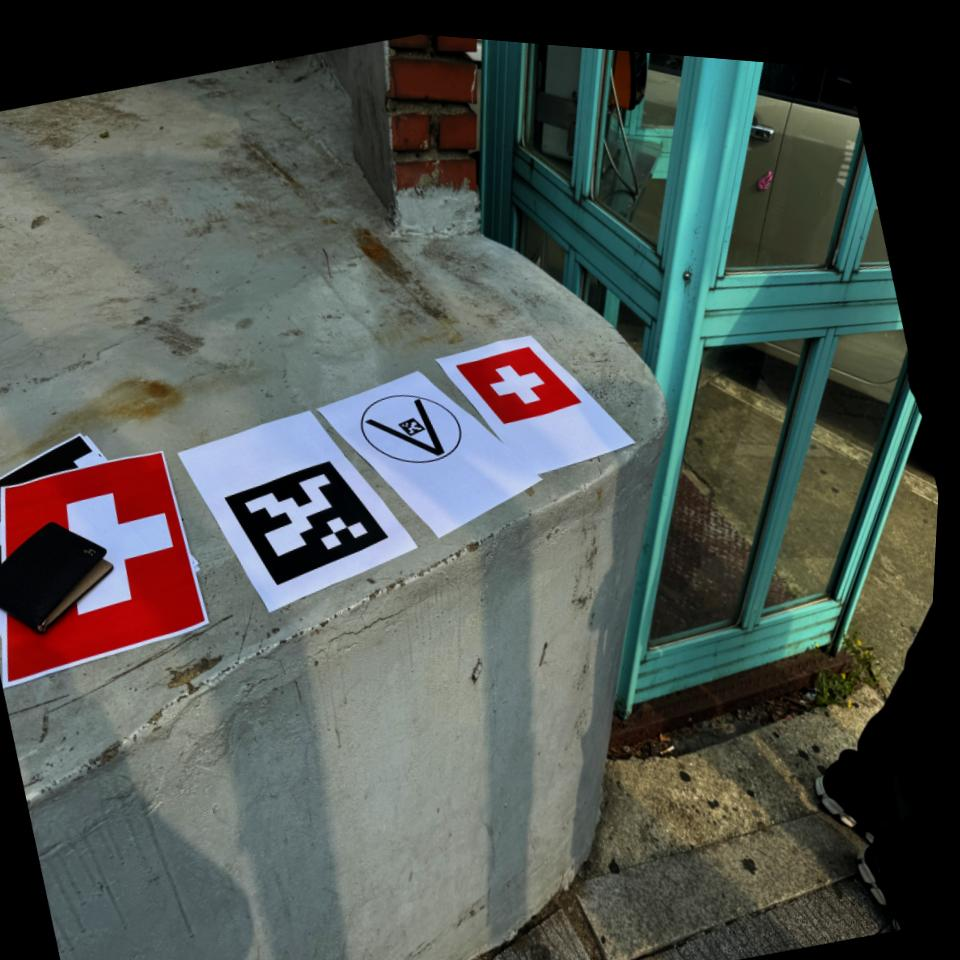ArUro mark: (226, 461, 386, 584)
rescue point: (457, 347, 579, 424)
vertiport: (349, 373, 473, 485)
